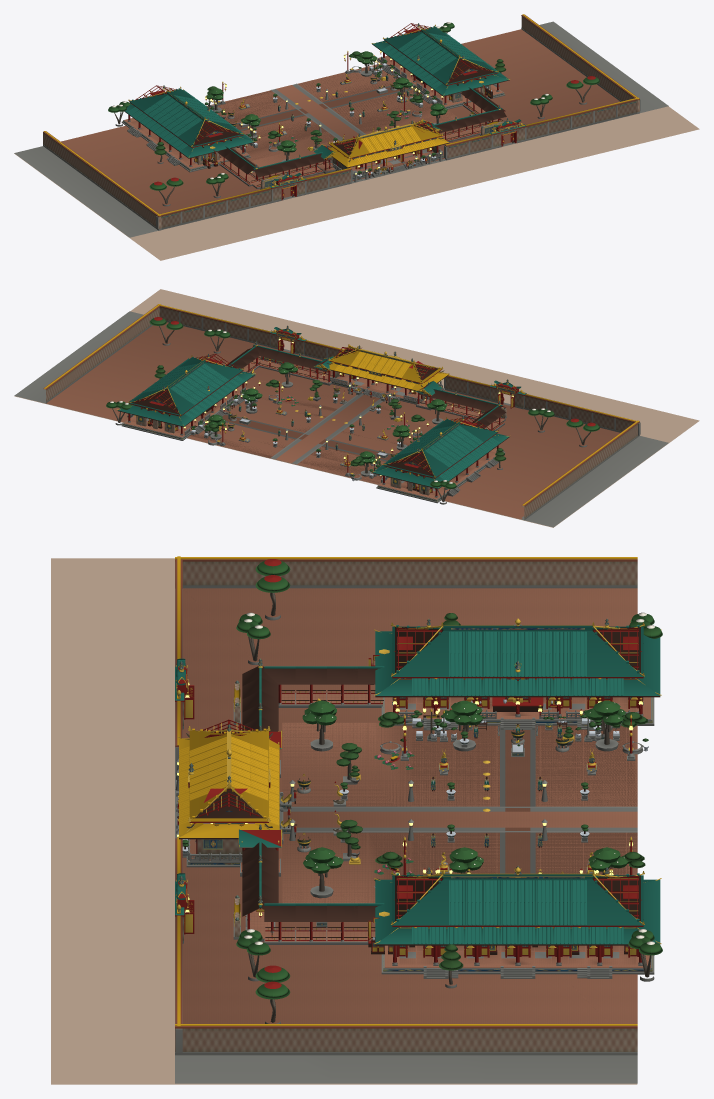
File: T05_dai_cung_mon_ta_huu_vu.glb
3 views of the same model, one above another, from view 1: azimuth 30°, elevation 25°; view 2: azimuth 150°, elevation 25°; view 3: azimuth 270°, elevation 25° (orthographic). The views are drawn at different scales.
Parts seen in each view (by area): view 1: T05_Ground_Walls, T05_V2_Satellite_Seamless_Base, T05_HuuVu, T05_TaVu, T05_DaiCungMon, T05_v03_PhuongMon_HoanhPhi, v08_RuiMe_TranThuaLuu_TaVu, v08_RuiMe_TranThuaLuu_HuuVu; view 2: T05_Ground_Walls, T05_V2_Satellite_Seamless_Base, T05_HuuVu, T05_TaVu, T05_DaiCungMon, T05_v03_PhuongMon_HoanhPhi, v08_RuiMe_TranThuaLuu_TaVu, v08_RuiMe_TranThuaLuu_HuuVu; view 3: T05_Ground_Walls, T05_V2_Satellite_Seamless_Base, T05_TaVu, T05_HuuVu, T05_DaiCungMon, v08_RuiMe_TranThuaLuu_TaVu, v08_RuiMe_TranThuaLuu_HuuVu, TL_SouthNS_E_1, TL_SouthNS_E_0, TL_SouthNS_E_2, v06_P05_CayPhuongVi_00, v06_P05_CayPhuongVi_01 (+13 smaller).
Part boxes in pixels (box(x1,y1,x2,y2)): T05_Ground_Walls: box(14, 14, 668, 237); T05_V2_Satellite_Seamless_Base: box(14, 106, 699, 260); T05_HuuVu: box(117, 86, 255, 172); T05_TaVu: box(371, 24, 510, 109); T05_DaiCungMon: box(295, 91, 449, 180); T05_v03_PhuongMon_HoanhPhi: box(274, 119, 520, 197); v08_RuiMe_TranThuaLuu_TaVu: box(390, 23, 492, 84); v08_RuiMe_TranThuaLuu_HuuVu: box(135, 85, 237, 146); T05_Ground_Walls: box(14, 304, 668, 527); T05_V2_Satellite_Seamless_Base: box(14, 289, 699, 527); T05_HuuVu: box(371, 417, 509, 503); T05_TaVu: box(117, 355, 255, 440); T05_DaiCungMon: box(295, 344, 449, 423); T05_v03_PhuongMon_HoanhPhi: box(274, 327, 520, 407); v08_RuiMe_TranThuaLuu_TaVu: box(135, 354, 237, 415); v08_RuiMe_TranThuaLuu_HuuVu: box(389, 416, 491, 477); T05_Ground_Walls: box(175, 556, 637, 1083); T05_V2_Satellite_Seamless_Base: box(51, 558, 637, 1084); T05_TaVu: box(374, 871, 661, 978); T05_HuuVu: box(374, 622, 661, 730); T05_DaiCungMon: box(176, 726, 490, 867); v08_RuiMe_TranThuaLuu_TaVu: box(396, 876, 638, 918); v08_RuiMe_TranThuaLuu_HuuVu: box(396, 627, 638, 670); TL_SouthNS_E_1: box(295, 903, 326, 944); TL_SouthNS_E_0: box(264, 903, 295, 944); TL_SouthNS_E_2: box(327, 903, 357, 944); v06_P05_CayPhuongVi_00: box(255, 559, 290, 620); v06_P05_CayPhuongVi_01: box(255, 965, 290, 1023).
Size of what is drawn, in the model's own units: 140 by 9.81 by 68.67.
Materials: 22 (3 with a texture image).
